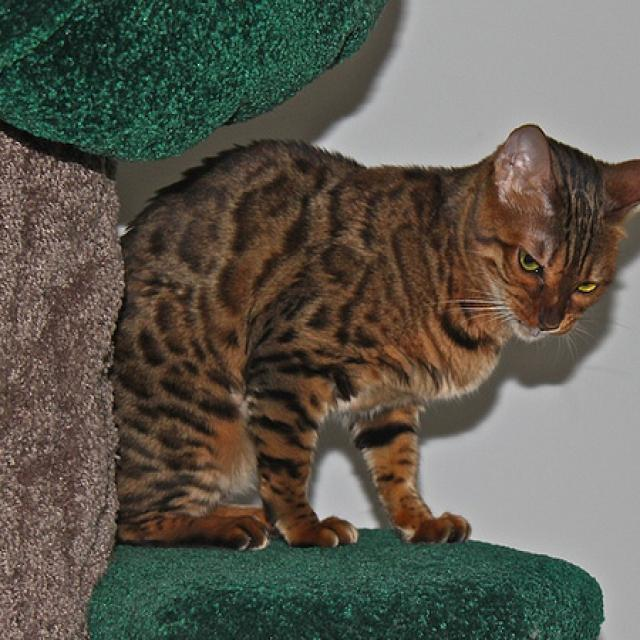Bengal: (96, 114, 640, 559)
